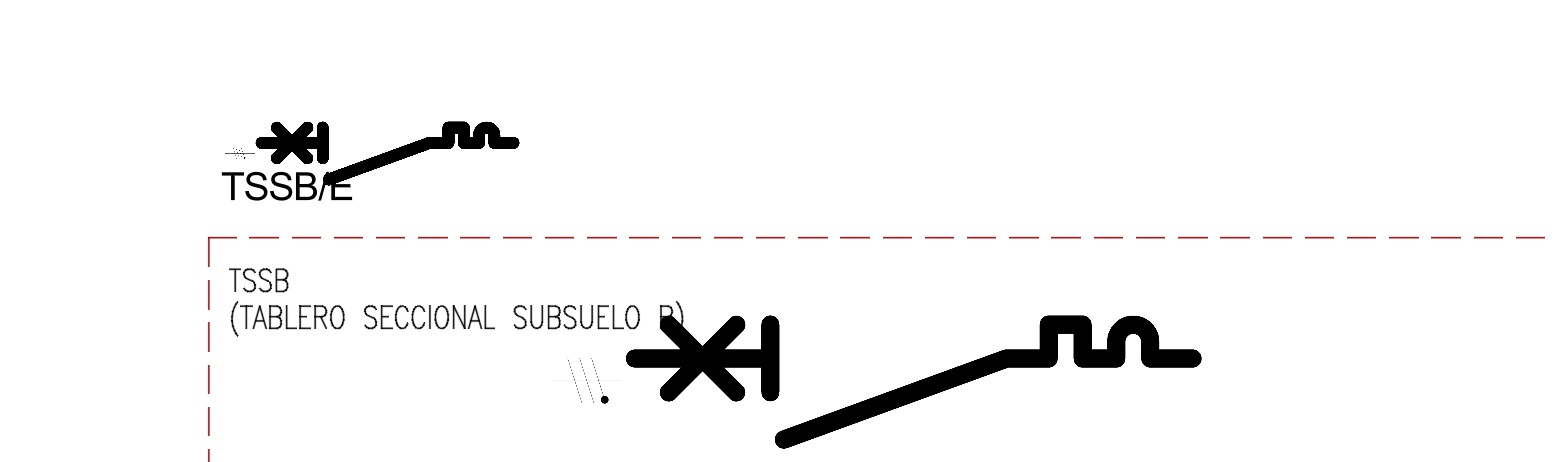interruptor_termomagnetico: (620, 310, 1207, 453), (254, 121, 519, 185)
